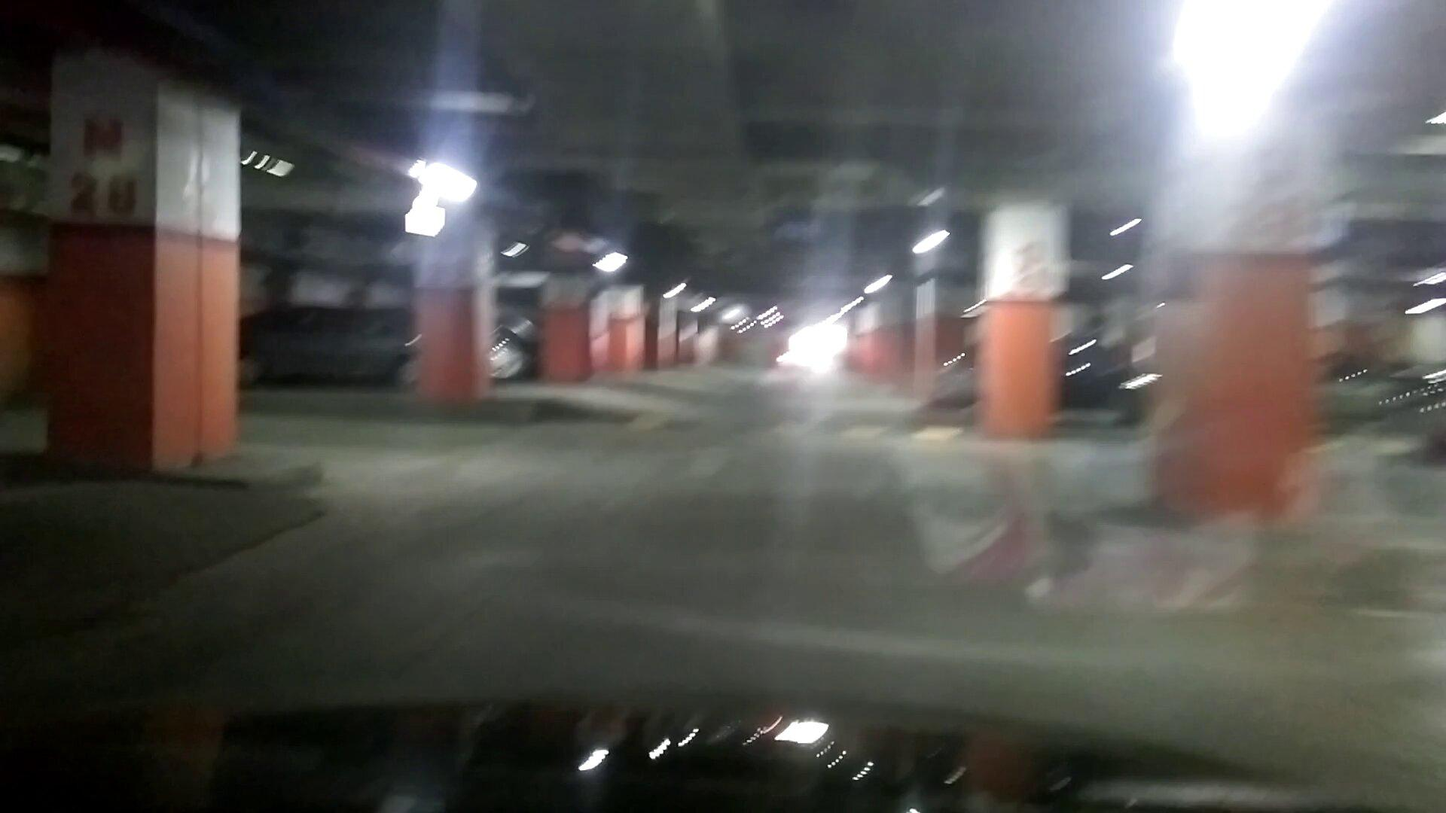Bump: (610, 412, 973, 448)
